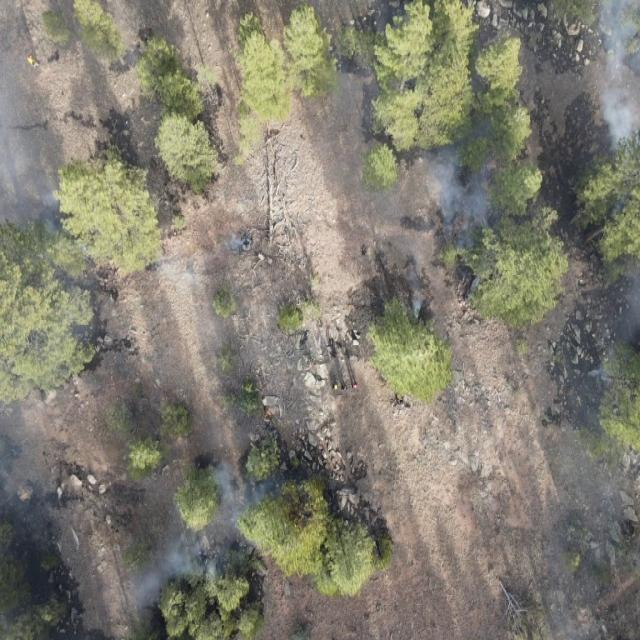fire: (263, 411, 273, 420)
smoke: (121, 466, 283, 616), (363, 132, 512, 238), (0, 4, 61, 224), (148, 223, 254, 346), (579, 265, 640, 409), (591, 0, 640, 165)
